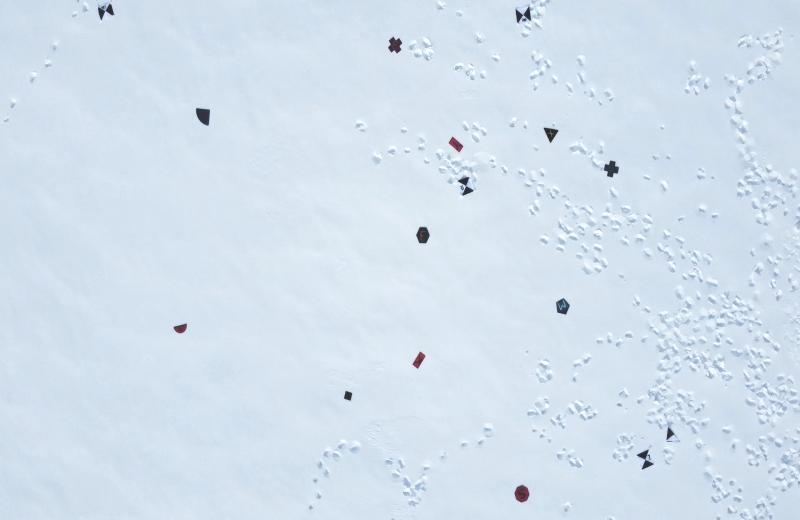Cross: (603, 161, 619, 179), (388, 35, 403, 54)
Hexagon: (416, 226, 430, 245)
Octagon: (514, 484, 530, 504)
Pentagon: (556, 297, 570, 314)
Quarter Circle: (195, 104, 211, 130)
Rectangle: (448, 134, 463, 154), (411, 351, 427, 369)
Semi Circle: (173, 322, 188, 333)
Square: (343, 390, 354, 403)
Triangle: (542, 126, 558, 146)
